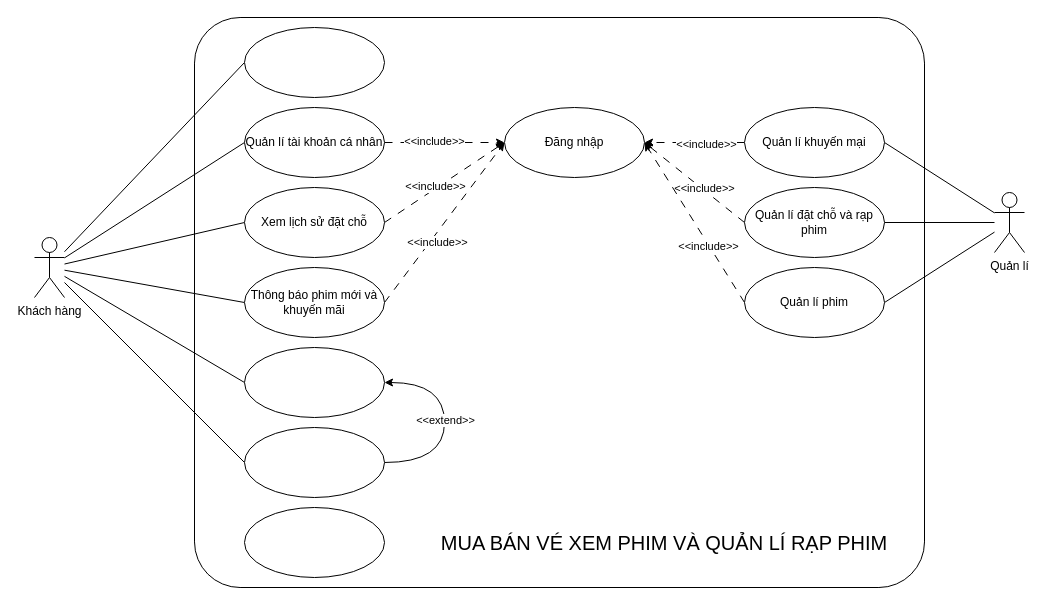
The diagram is 1046 pixels wide and 605 high, and some of its shapes have lost their labels. The centre of each missing label's shape, as x and y in pixels:
"Thanh toán" goes at pixel 314 382.
"Tìm kiếm phim và suất chiếu" goes at pixel 314 542.
"Đăng kí" goes at pixel 314 62.
"Đặt vé" goes at pixel 314 462.
